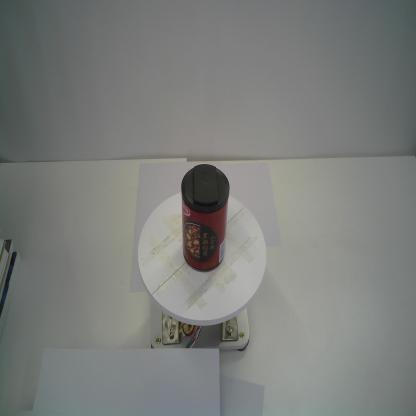Canned Food: (179, 161, 231, 274)
